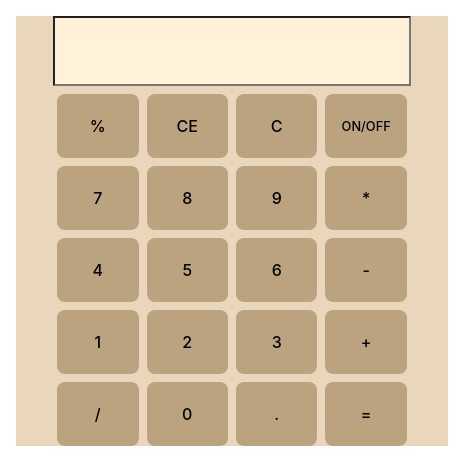
Calculator › should show the user result about operation
Click the button "1": click(98, 342) [57,310,138,374]
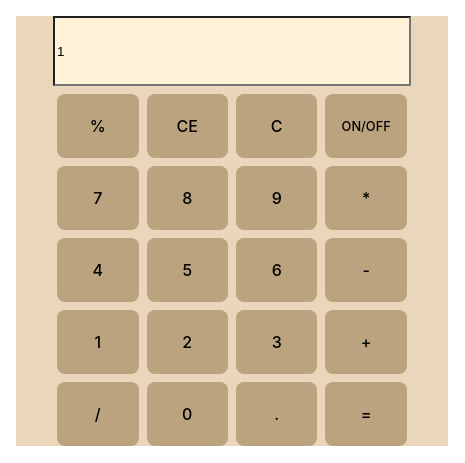
Click the button "+": click(366, 342) [325,310,407,374]
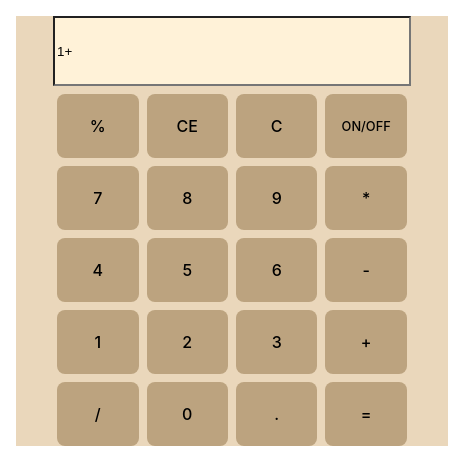
Click the button "2": click(187, 342) [146,310,228,374]
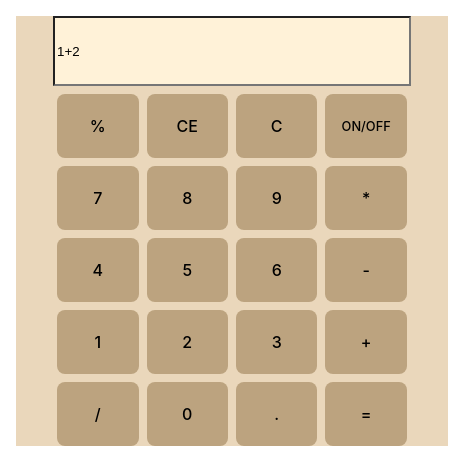
Click the button "=": click(366, 414) [325,382,407,446]
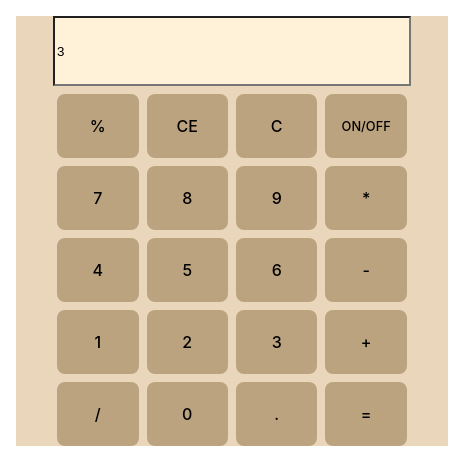
Expected: the field holds "3", [53,16,411,86]
